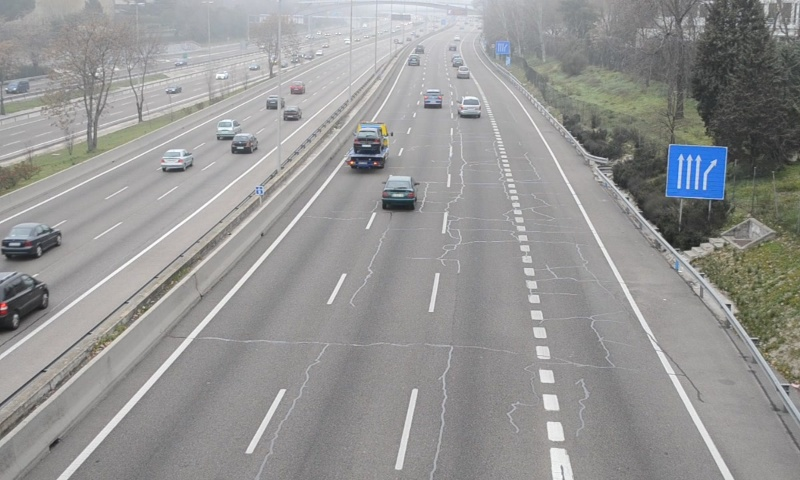car: (381, 175, 417, 208), (457, 96, 482, 116), (422, 89, 443, 107)
small-truck: (346, 122, 390, 169)
